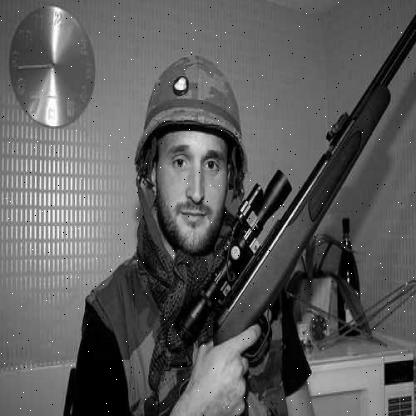rifle: (167, 20, 404, 371)
